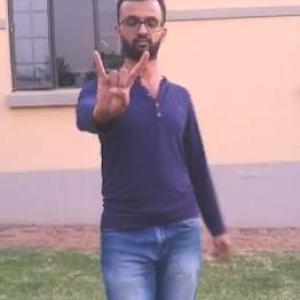takeoff-hand: (81, 44, 159, 130)
